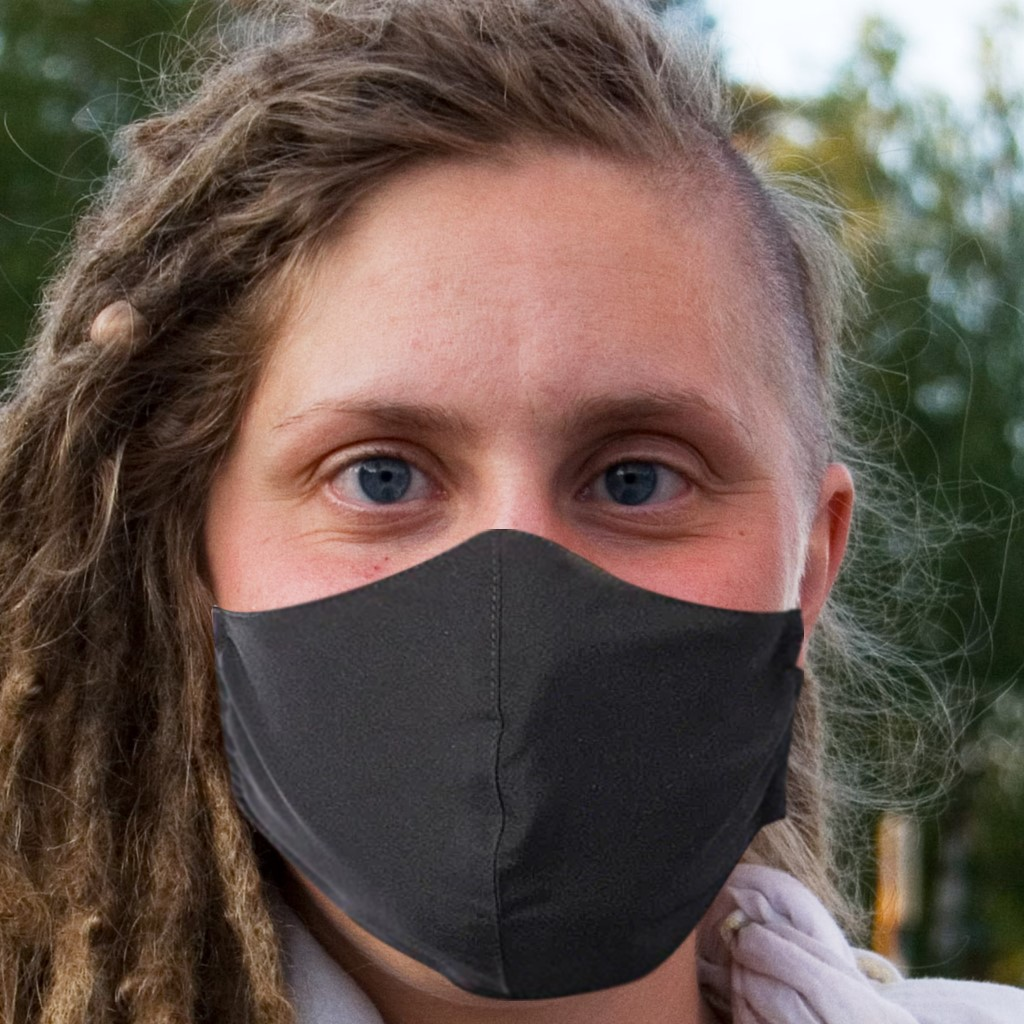con_mascara: (138, 75, 851, 962)
